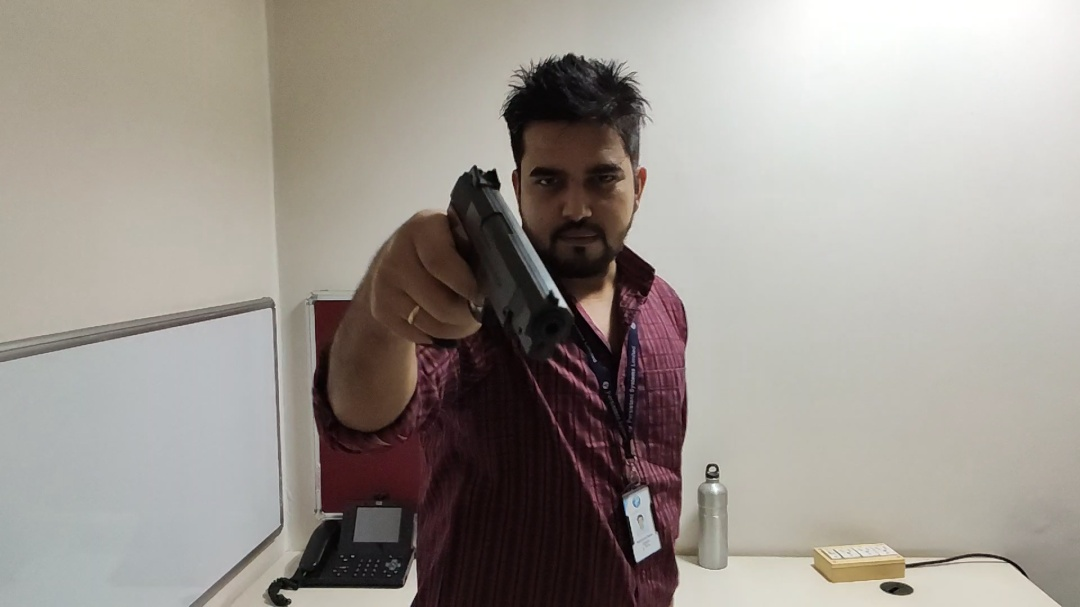gun: (422, 159, 584, 380)
